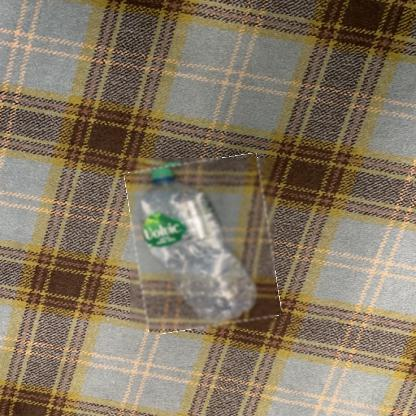plastic-bottles: (131, 159, 277, 331)
